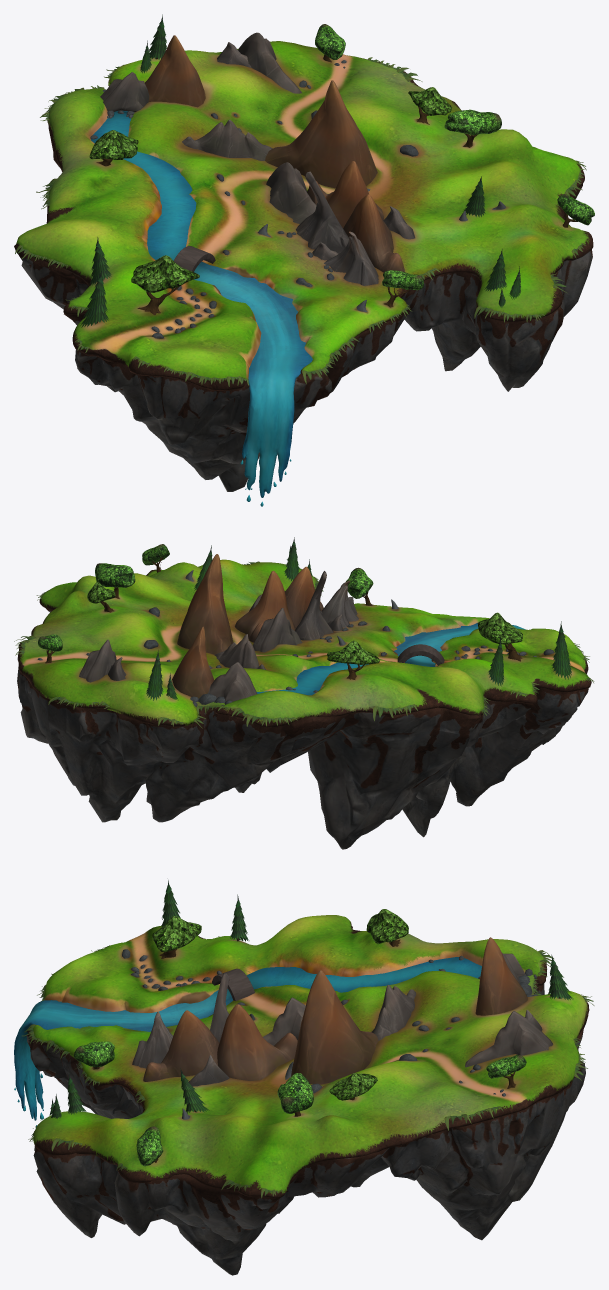
The model's file is whimsical_cartoon_space_land_3d_model.glb.
3 renders of one model, top to bottom at view 1: azimuth 30°, elevation 25°; view 2: azimuth 150°, elevation 25°; view 3: azimuth 270°, elevation 25°, orthographic. The views are drawn at different scales.
Visible parts, largest first — view 1: node_id33_3, node_id31_0, node_id35_4; view 2: node_id33_3, node_id35_4, node_id31_0; view 3: node_id33_3, node_id35_4, node_id31_0.
Part boxes in pixels (box(x1,y1,x2,y2)): node_id33_3: box(15, 41, 593, 506); node_id31_0: box(80, 14, 594, 338); node_id35_4: box(14, 124, 592, 491); node_id33_3: box(14, 559, 594, 728); node_id35_4: box(17, 608, 588, 849); node_id31_0: box(37, 537, 571, 706); node_id33_3: box(14, 915, 594, 1198); node_id35_4: box(26, 926, 588, 1275); node_id31_0: box(49, 880, 573, 1166).
Bounding box in the file's own units: 0.762 × 0.4162 × 0.6899.
Materials: 3 (3 with a texture image).
